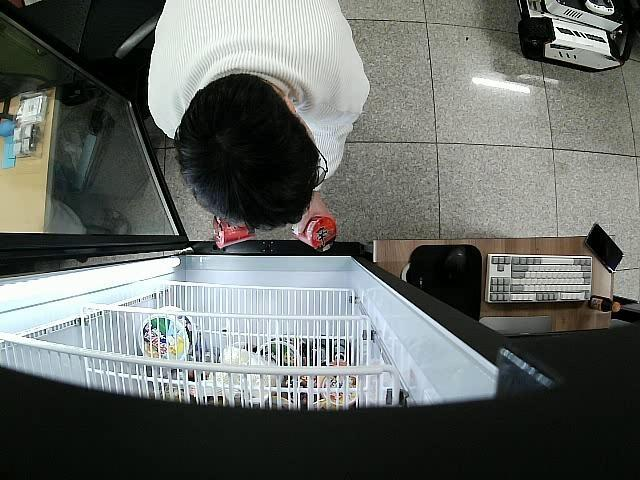02_shinRamen_S: (292, 220, 336, 250)
